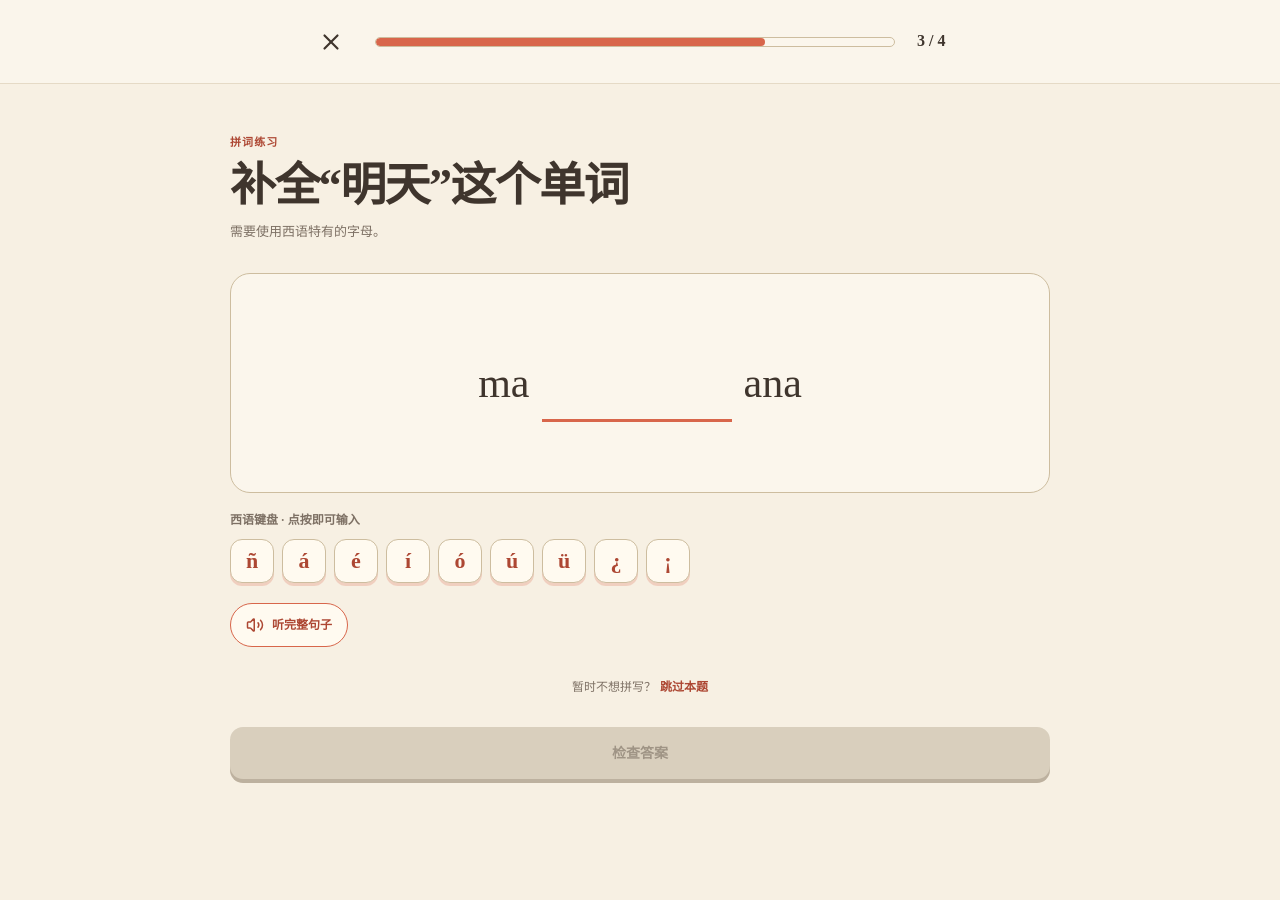
Scenario: LessonPlayer › lets learners enter Spanish characters without changing their physical keyboard
Step 1. Click the button named "输入特殊字符 ñ" → {"x": 252, "y": 561}, box 230,539 -> 274,583
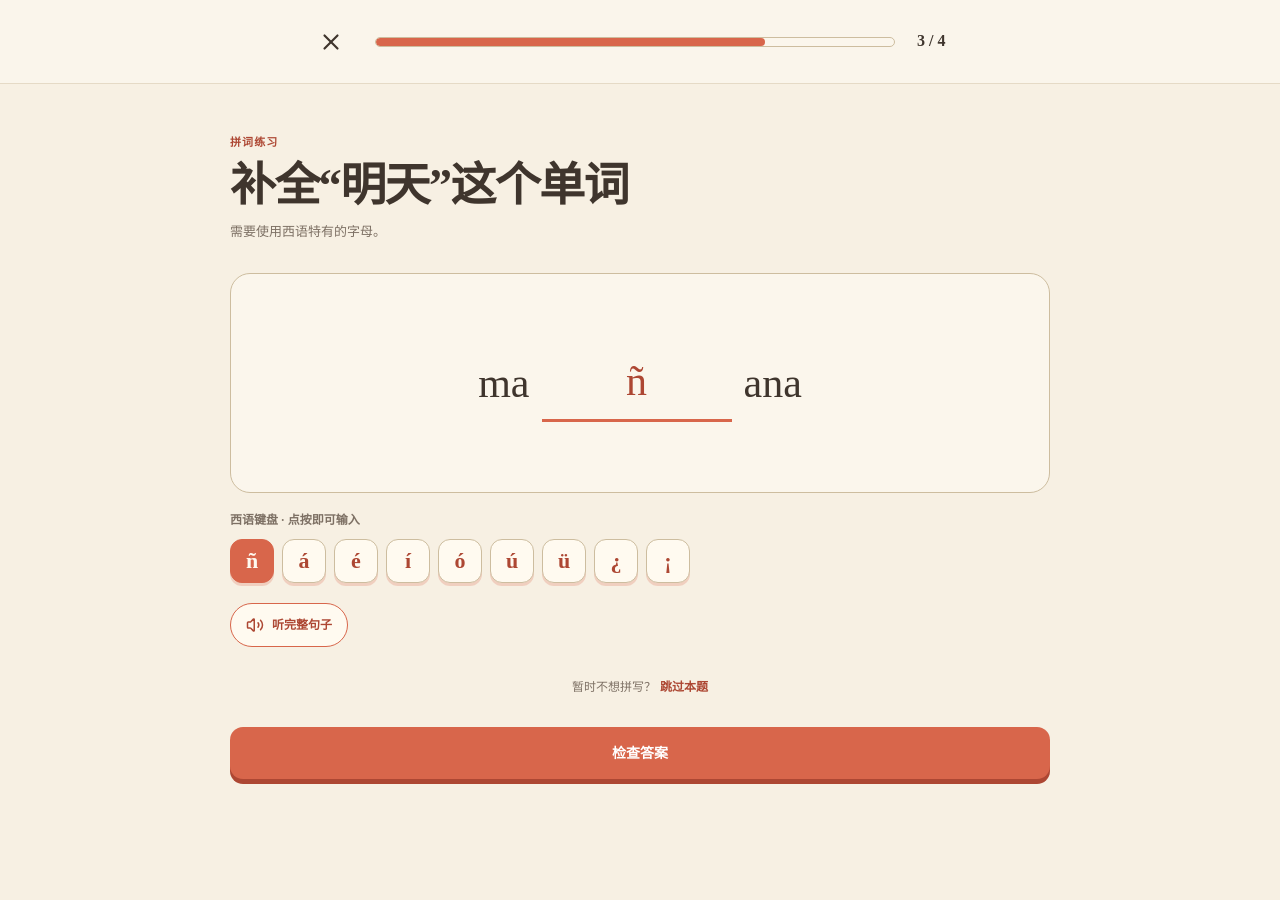
Now the field named "填写缺少的西语单词" holds "ñ", box 542,344 -> 732,422
Step 2. Click the button "检查答案" → {"x": 640, "y": 753}, box 230,727 -> 1050,779
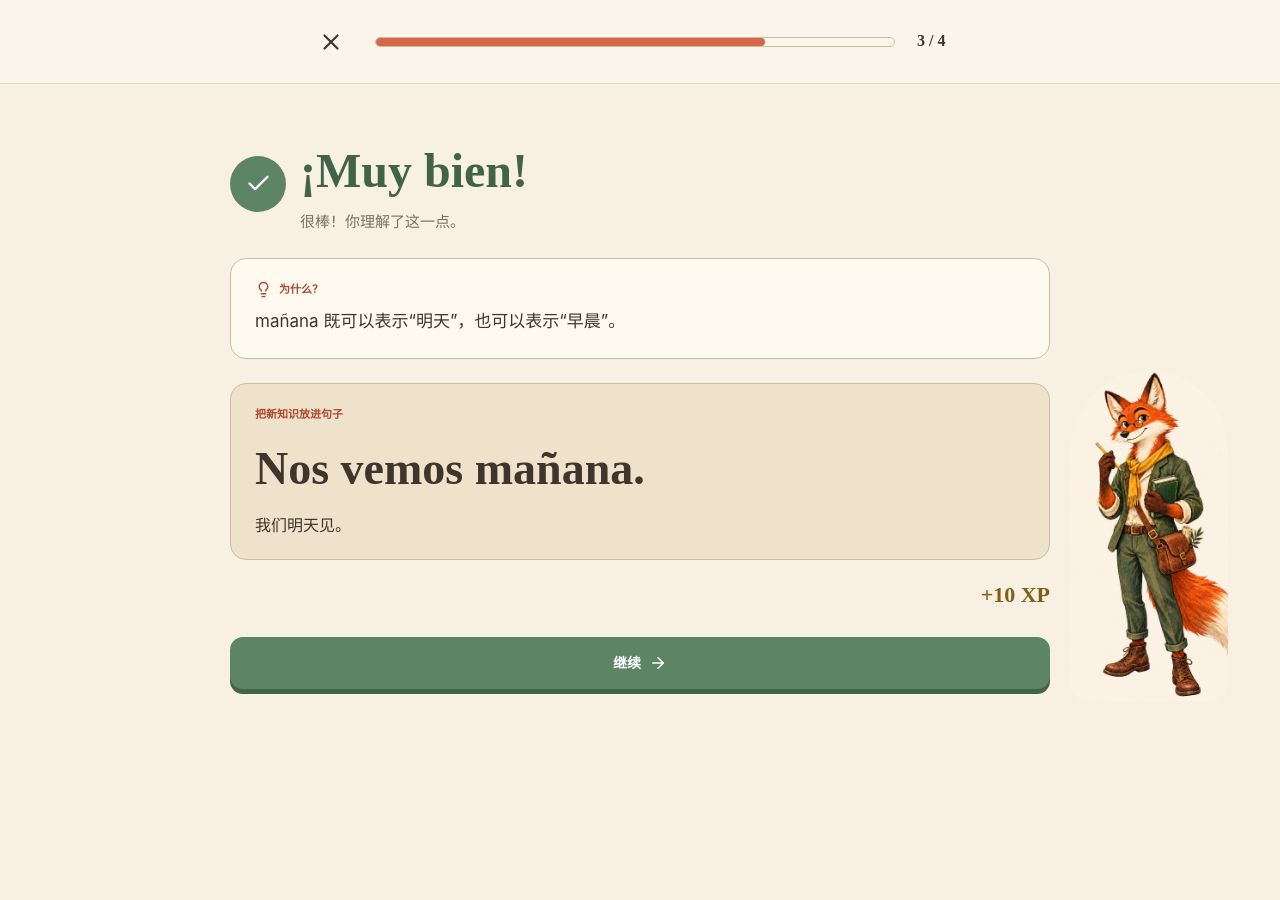
Now the heading "¡Muy bien!" is shown, box 300,134 -> 528,208
